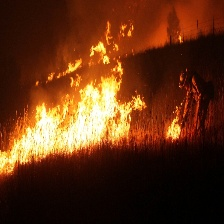fire: (1, 72, 146, 172), (73, 1, 219, 44), (43, 22, 136, 81), (164, 108, 188, 145)
